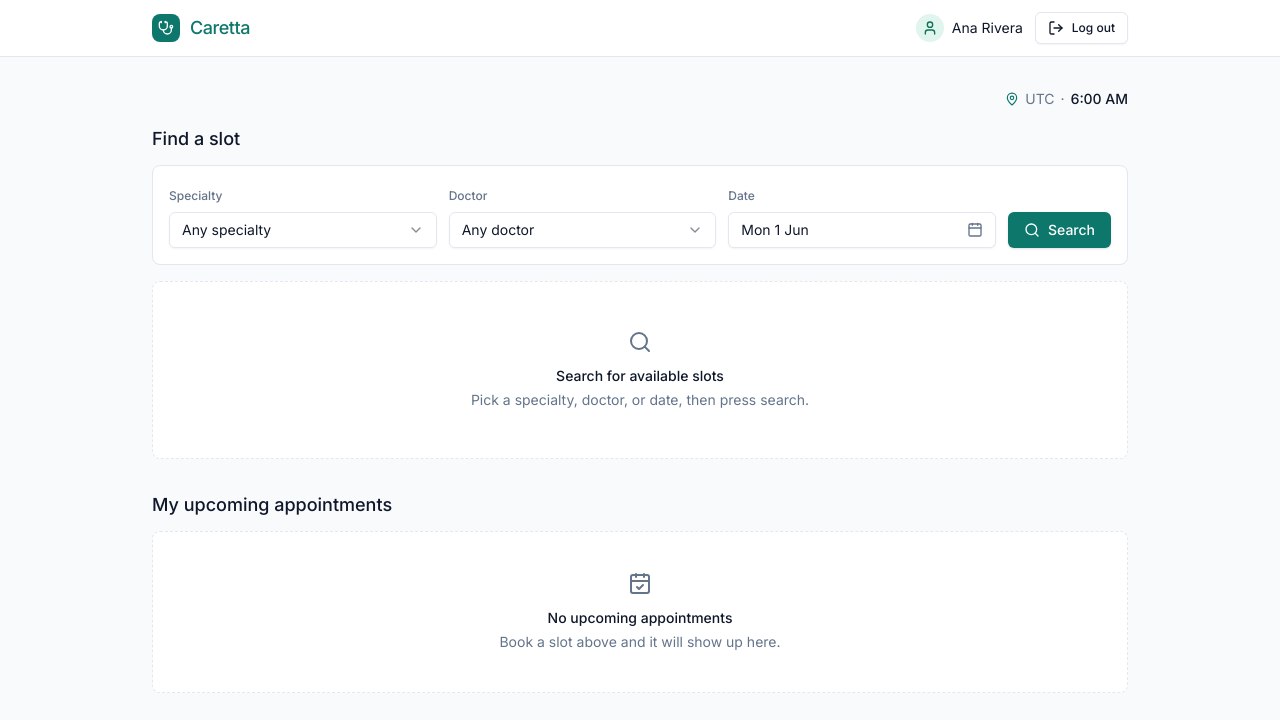
Test: Slot generation flow › never lets the patient pick a Sunday, since the clinic is closed
Step 1. Click the button named "Date" → (775, 230), box [728,212,996,248]
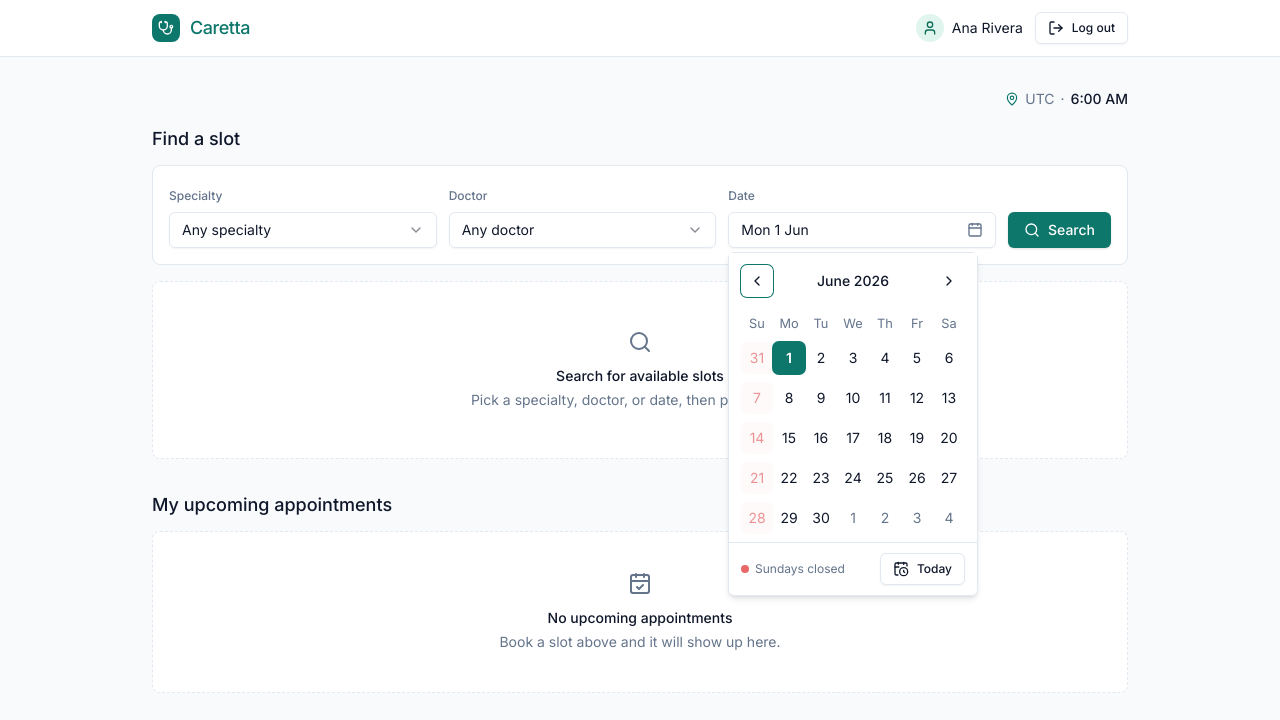
Expected: the button named "Sunday, June 7th, 2026" is disabled, [741,382,773,414]
